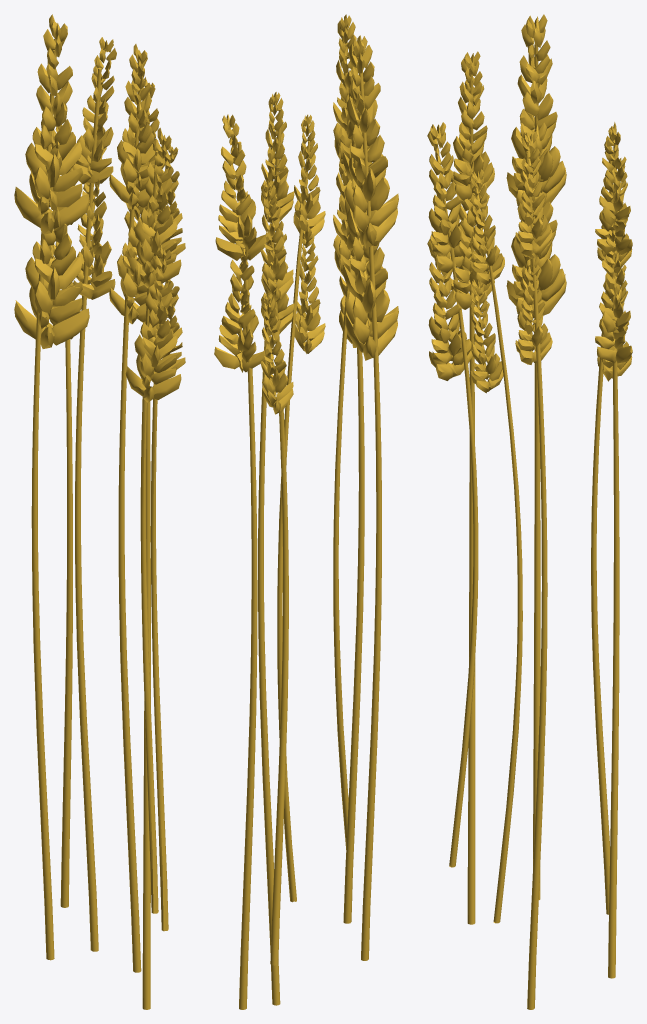
The model's file is Wheat-LOD2-Scaled.fbx.
3 renders of one model, left to right at view 1: azimuth 30°, elevation 25°; view 2: azimuth 150°, elevation 25°; view 3: azimuth 270°, elevation 25°, orthographic. The views are drawn at different scales.
Visible parts, largest first — view 1: LOD-2; view 2: LOD-2; view 3: LOD-2.
Part boxes in pixels (box(x1,y1,x2,y2)): LOD-2: box(14, 14, 185, 1009); LOD-2: box(214, 14, 398, 1009); LOD-2: box(427, 14, 632, 1009).
Size of the model in its own units: 16.12 by 115 by 22.39.
